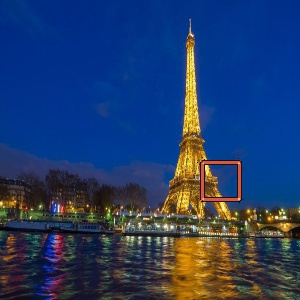square: (198, 159, 242, 203)
